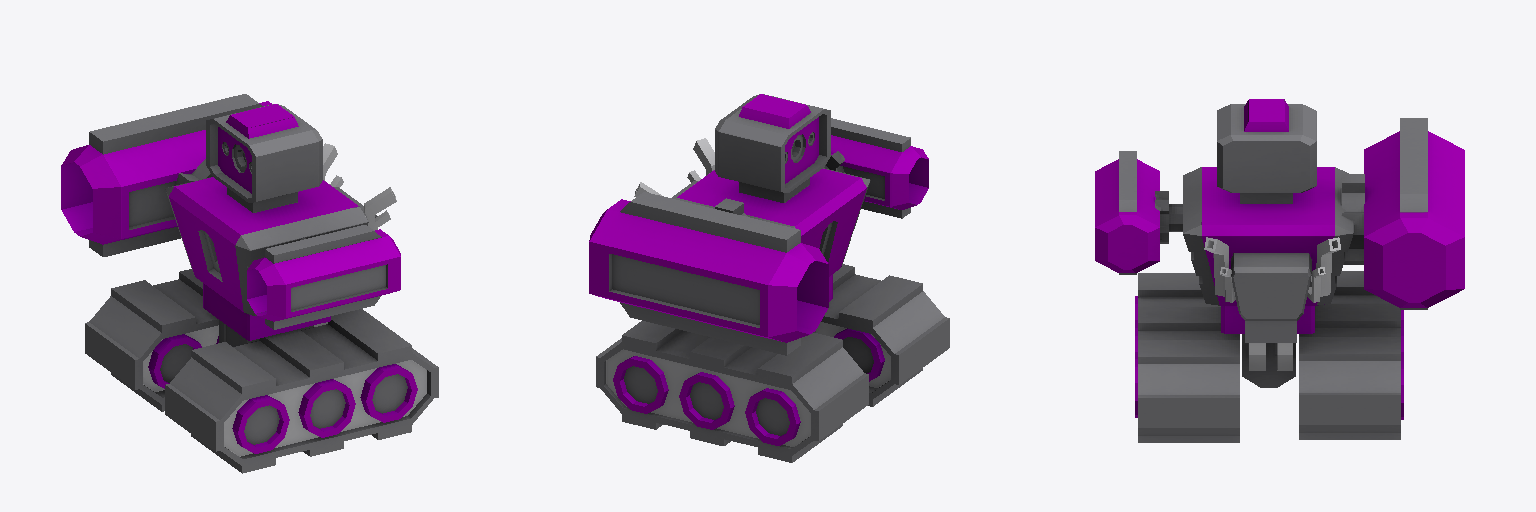
3 renders of one model, left to right at view 1: azimuth 30°, elevation 25°; view 2: azimuth 150°, elevation 25°; view 3: azimuth 270°, elevation 25°, orthographic.
Parts seen in each view (by area): view 1: Object006, Object007, Object010; view 2: Object006, Object007, Object010; view 3: Object006, Object007, Object010, Object009, Object008.
Part boxes in pixels (x1,y1,x2,y2): Object006: (61, 94, 438, 473); Object007: (165, 104, 368, 346); Object010: (314, 143, 396, 326); Object006: (589, 118, 949, 462); Object007: (676, 94, 870, 332); Object010: (634, 138, 714, 198); Object006: (1095, 118, 1464, 442); Object007: (1183, 99, 1353, 387); Object010: (1204, 237, 1340, 370); Object009: (1342, 174, 1364, 264); Object008: (1155, 191, 1182, 243).
Size of the model in its own units: 87.45 by 108 by 125.
Materials: 1 (1 with a texture image).